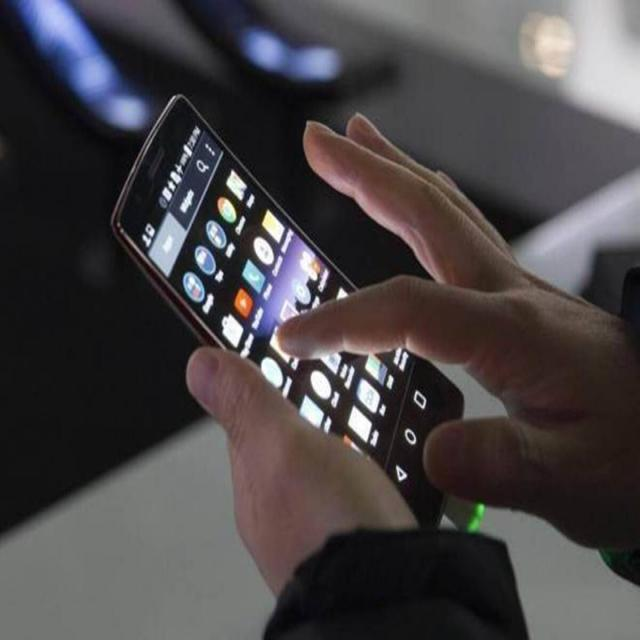Phone: (106, 91, 469, 527)
